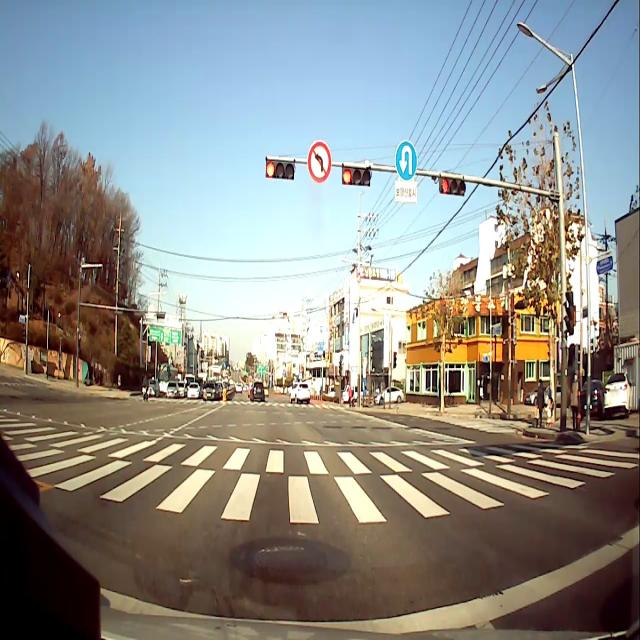Red Light: (265, 158, 276, 178), (440, 174, 450, 194), (342, 168, 352, 185)
